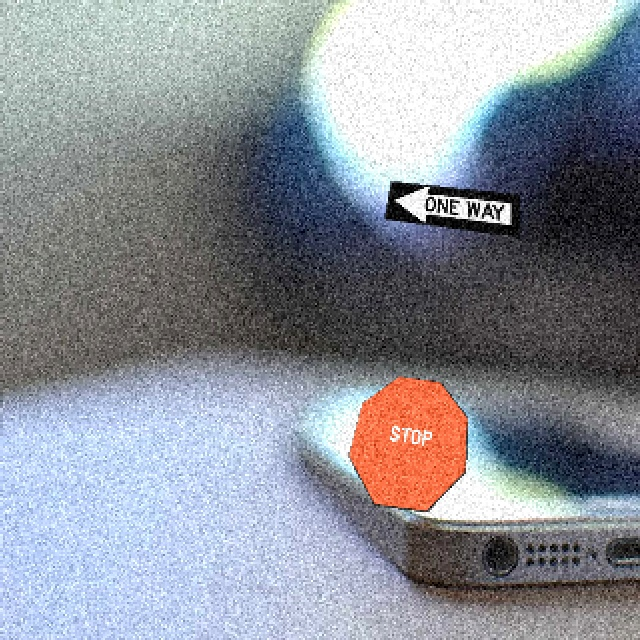ONE_WAY_ left: (382, 179, 519, 236)
STOP: (346, 374, 467, 511)
